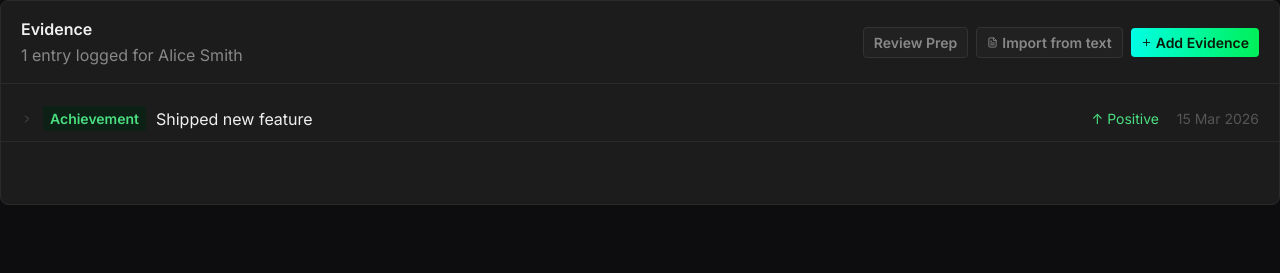
EvidenceSection › should expand entry on click to show content
Expected: the text "Shipped new feature" is shown, 156,108 -> 313,128
Click the element with test id "evidence-entry-row". click: x=95, y=118
box: 21,106 -> 1259,131
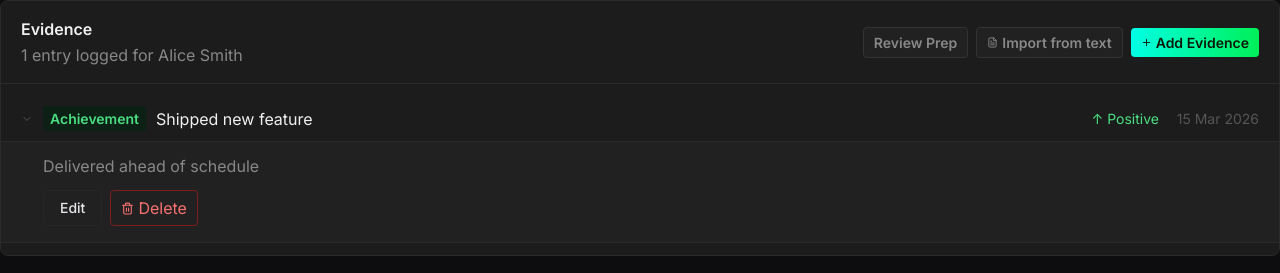
Expected: the text "Delivered ahead of schedule" is shown, 43,156 -> 259,176
